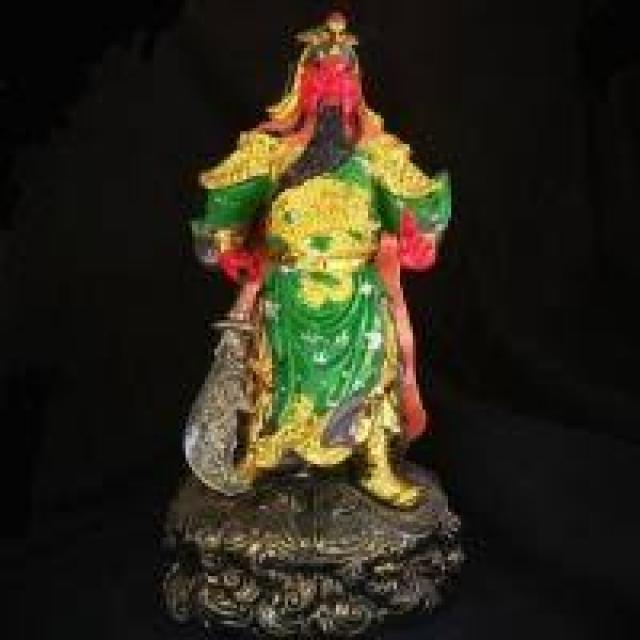Guan Yu: (223, 12, 432, 400)
